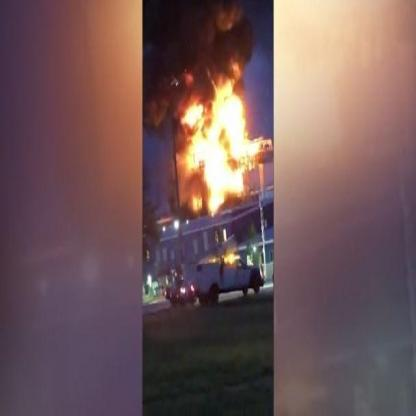fire: (178, 69, 262, 223)
